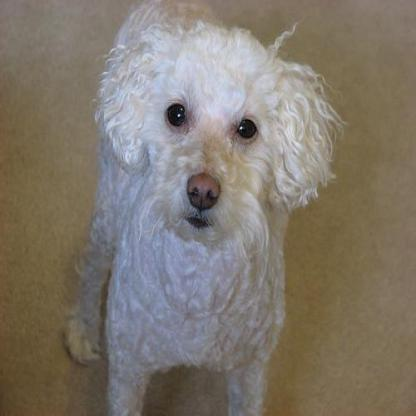toy_poodle: (63, 0, 346, 414)
